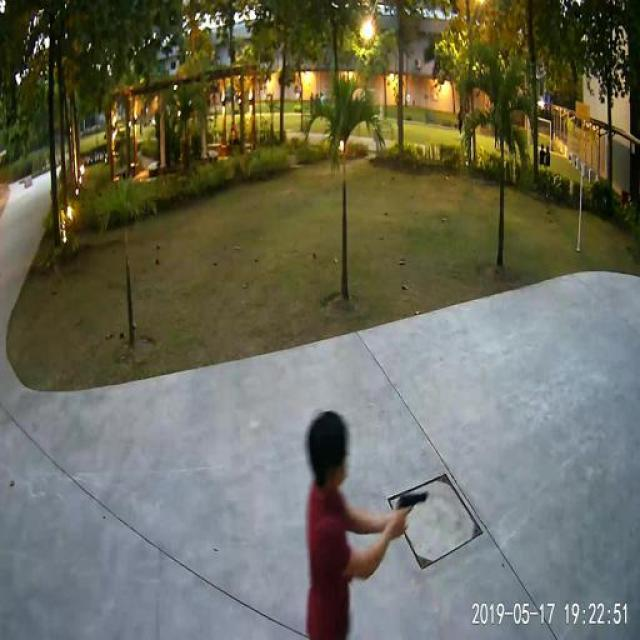Gun: (384, 471, 436, 522)
